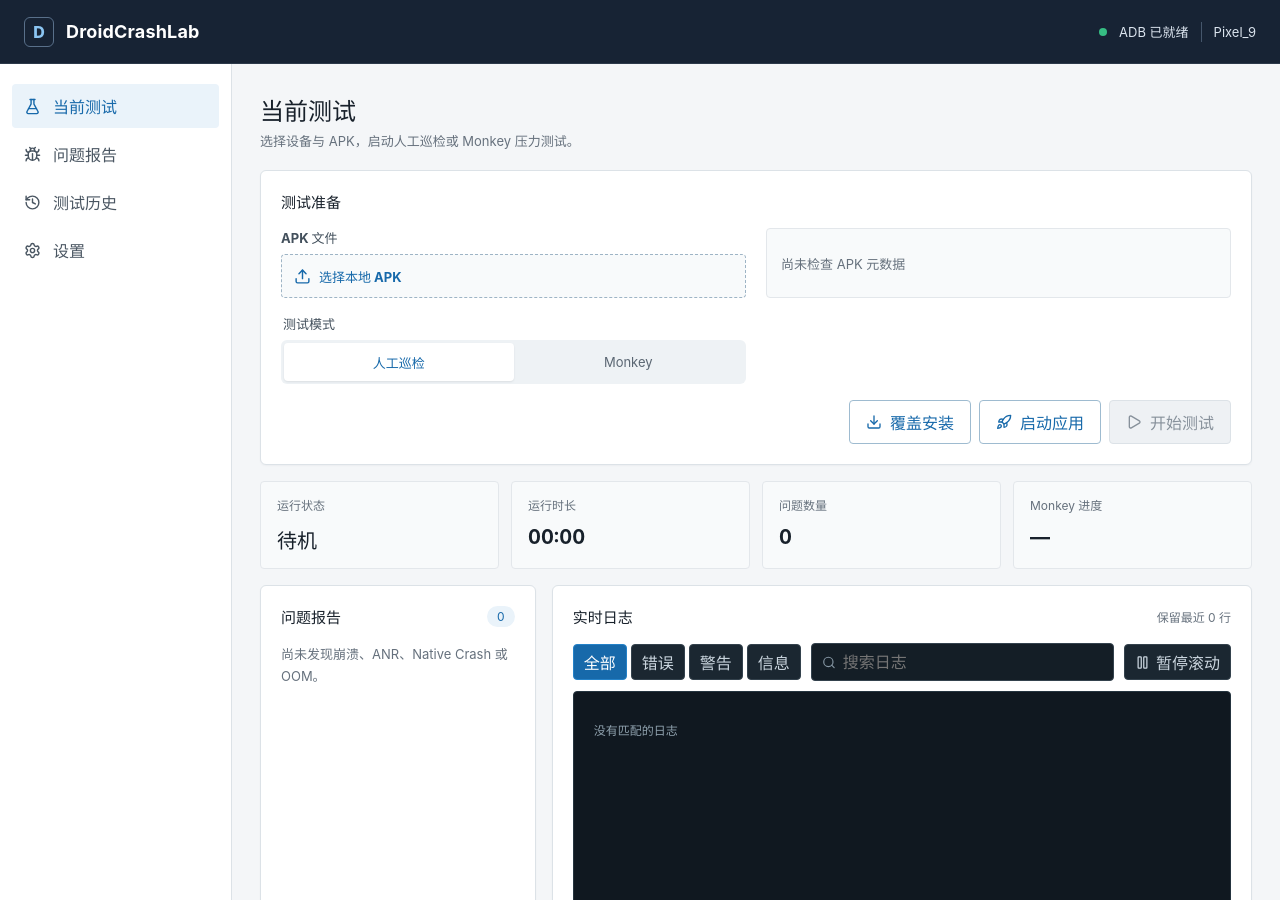
Test: App › opens issue reports and fetches the selected raw log range
Click the button "问题报告".
click(116, 154)  # box [12,132,219,176]
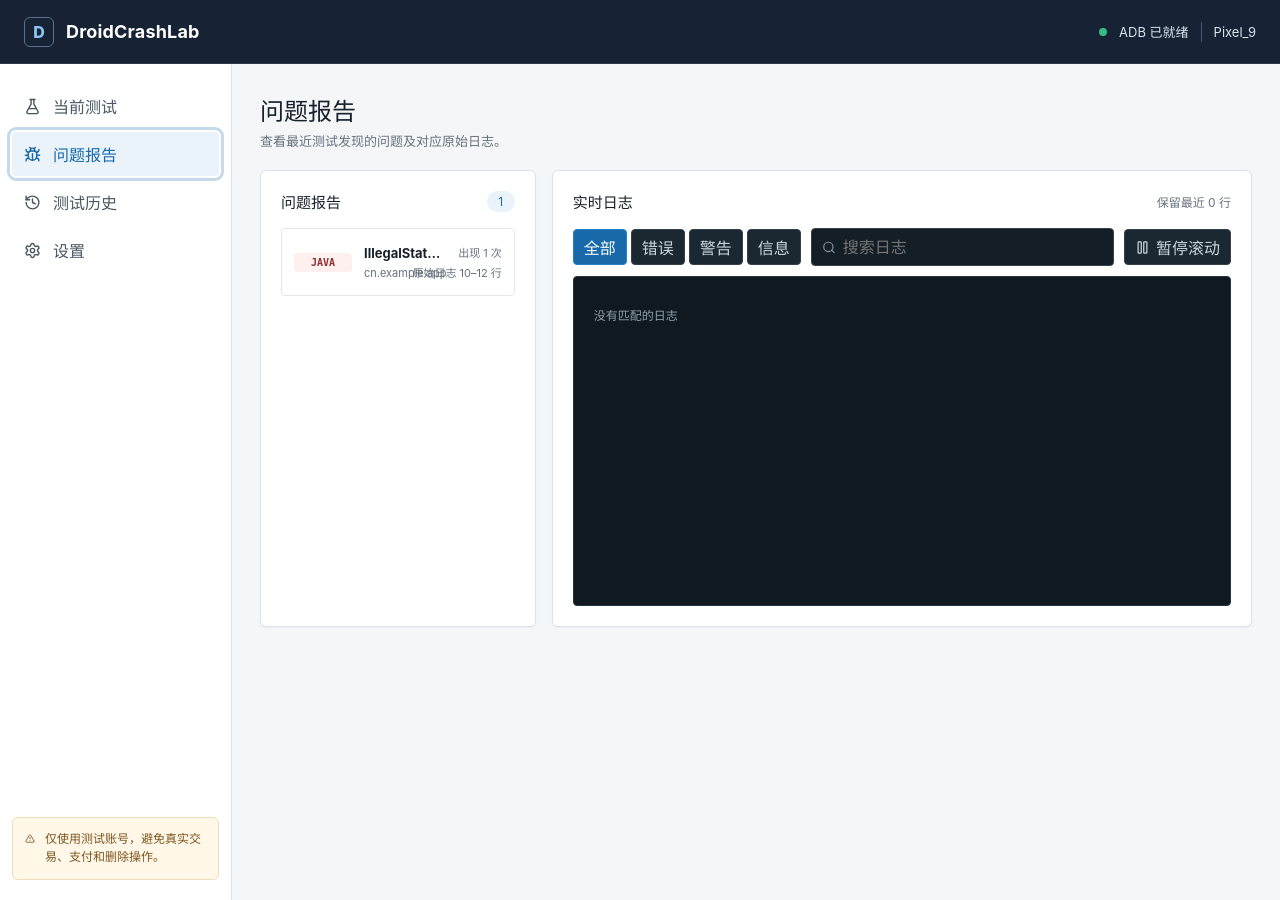
Click the button "IllegalStateException: selected crash".
click(398, 262)  # box [281,228,515,296]
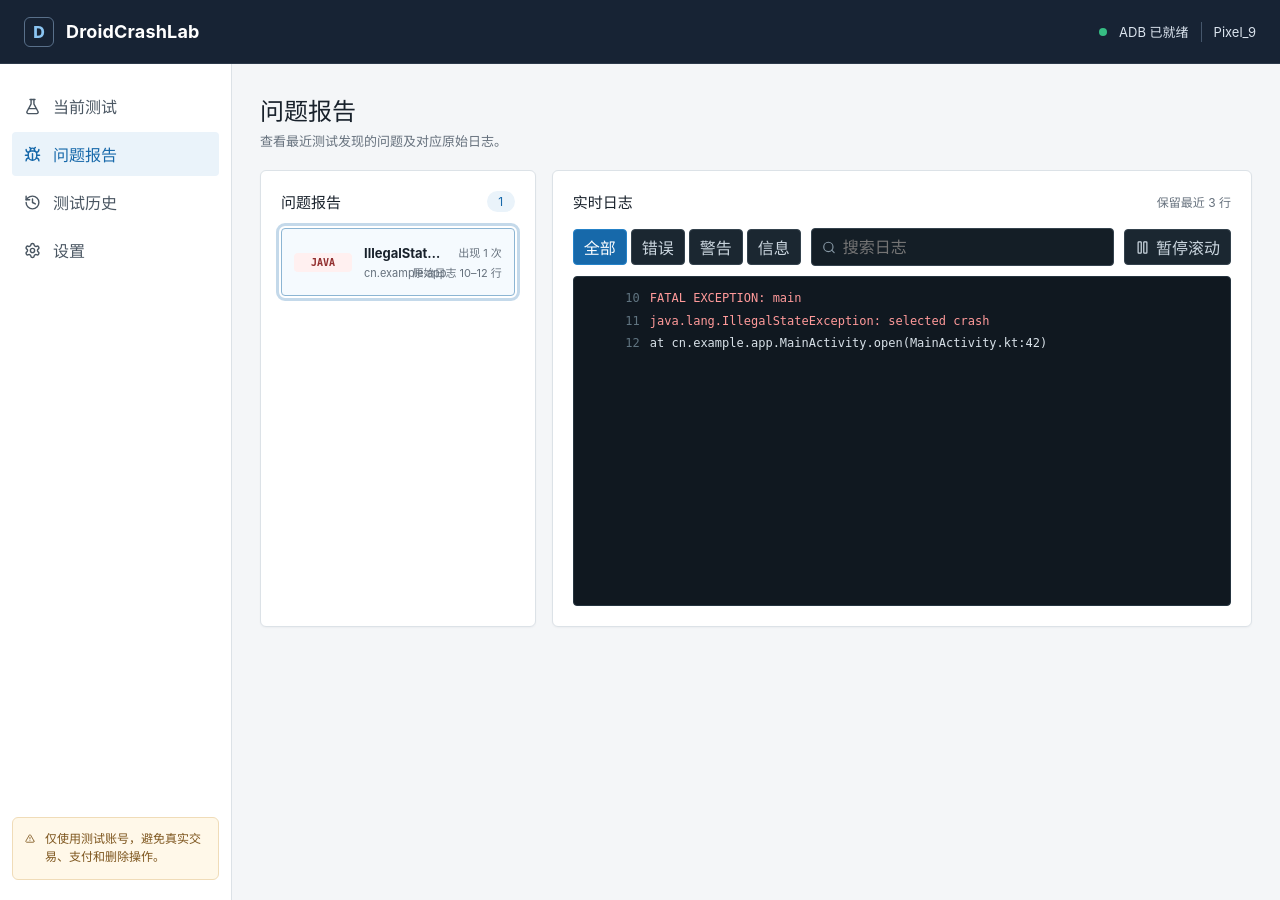
Expected: the text "java.lang.IllegalStateException: selected crash" is shown, [650,314,989,328]
